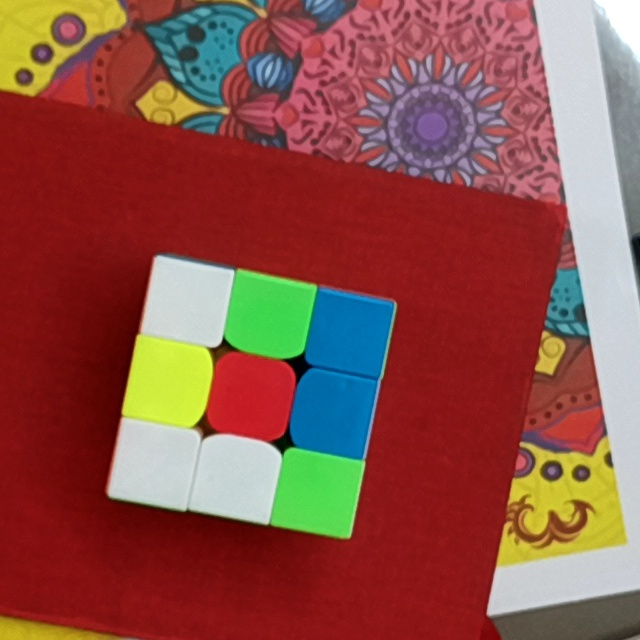tile: (119, 431, 186, 495), (135, 348, 201, 411), (236, 287, 301, 349), (203, 447, 269, 508), (154, 272, 218, 333), (287, 462, 351, 523), (222, 366, 283, 428), (319, 303, 381, 363), (303, 382, 365, 442)
